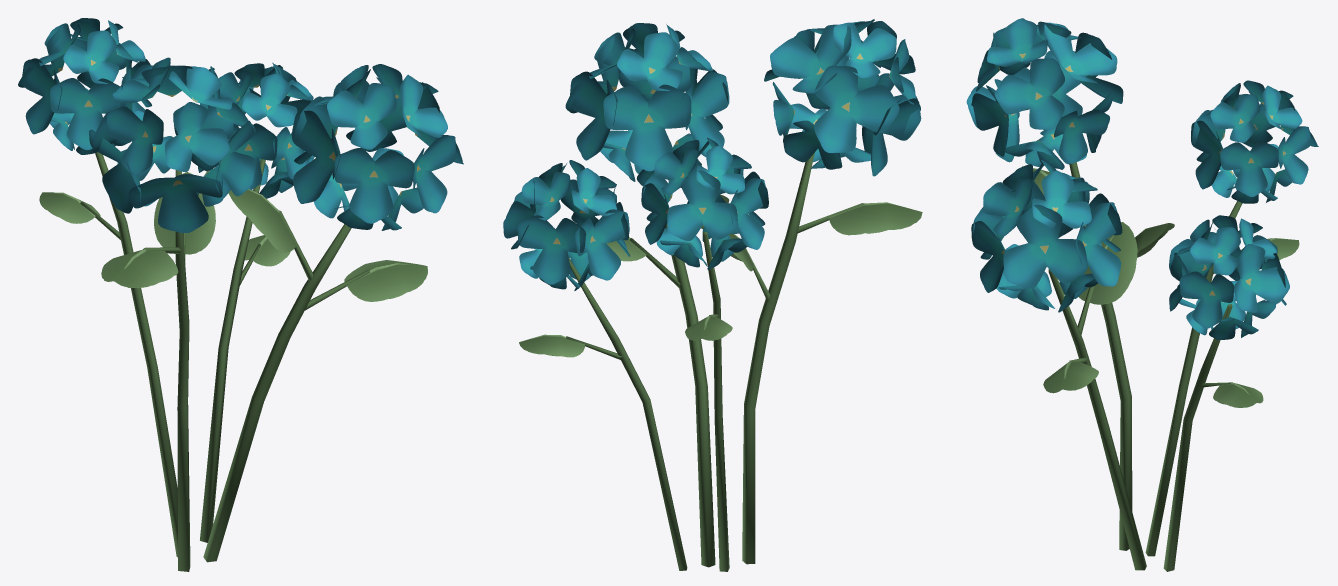
File: Flower_1_Clump.gltf
The picture shows the model from 3 angles, left to right: view 1: azimuth 30°, elevation 25°; view 2: azimuth 150°, elevation 25°; view 3: azimuth 270°, elevation 25°; orthographic projection. The views are drawn at different scales.
Visible parts, largest first — view 1: Flower_1_Clump; view 2: Flower_1_Clump; view 3: Flower_1_Clump.
Boxes of the visible parts, x1=… form: Flower_1_Clump: x1=18, y1=18, x2=463, y2=571; Flower_1_Clump: x1=503, y1=19, x2=922, y2=571; Flower_1_Clump: x1=966, y1=18, x2=1318, y2=571.
Bounding box in the file's own units: 0.4711 × 0.6713 × 0.4352.
Materials: 1 (1 with a texture image).
